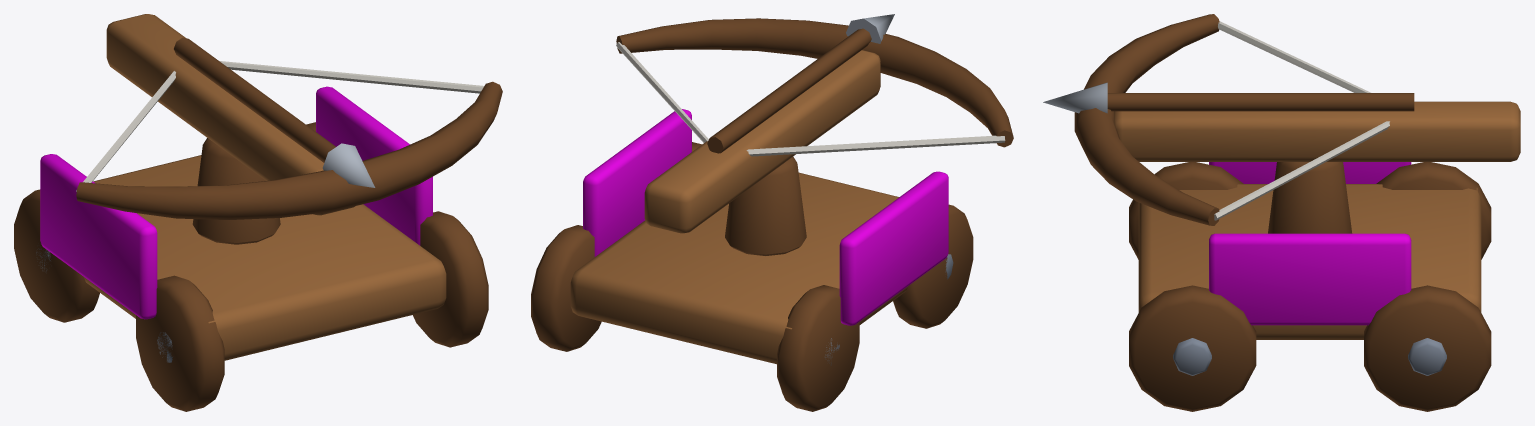
File: balista.glb
3 renders of one model, left to right at view 1: azimuth 30°, elevation 25°; view 2: azimuth 150°, elevation 25°; view 3: azimuth 270°, elevation 25°, orthographic. The views are drawn at different scales.
Parts seen in each view (by area): view 1: corpo, topo; view 2: corpo, topo; view 3: corpo, topo.
Boxes of the visible parts, x1=… form: corpo: x1=14, y1=86, x2=488, y2=411; topo: x1=76, y1=14, x2=502, y2=219; corpo: x1=531, y1=109, x2=973, y2=411; topo: x1=616, y1=14, x2=1013, y2=233; corpo: x1=1129, y1=162, x2=1491, y2=411; topo: x1=1043, y1=14, x2=1520, y2=225.
Size of the model in its own units: 1.45 by 0.865 by 1.46.
